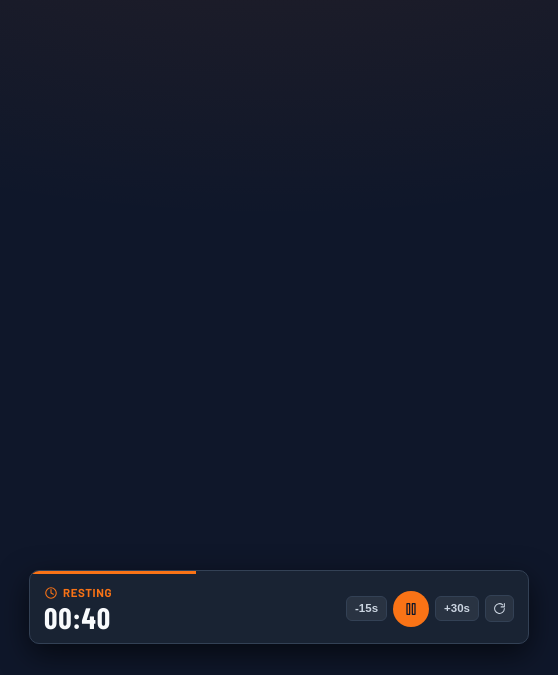
RestTimer Component › resets timer when reset button is clicked
Expected: the text with test id "rest-timer-digits" reads "00:40", x1=44 y1=599 x2=111 y2=635
Click the button named "reset rest timer" at (500, 609), box x1=485 y1=595 x2=514 y2=622
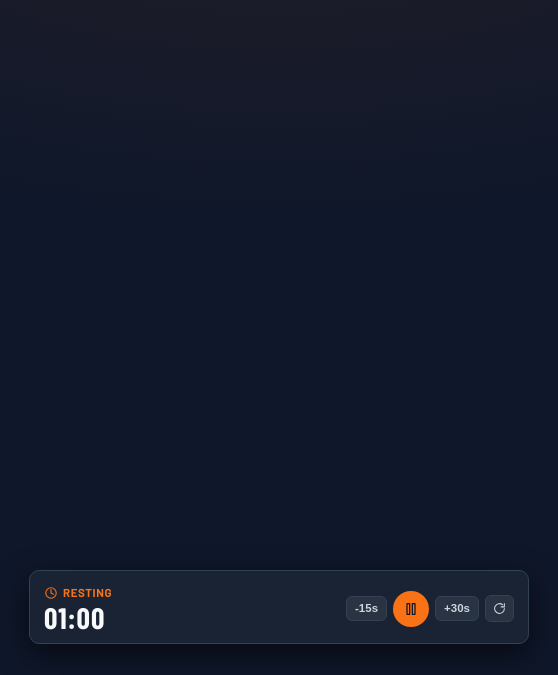
Result: the text with test id "rest-timer-digits" reads "01:00" at x1=44 y1=599 x2=105 y2=635
